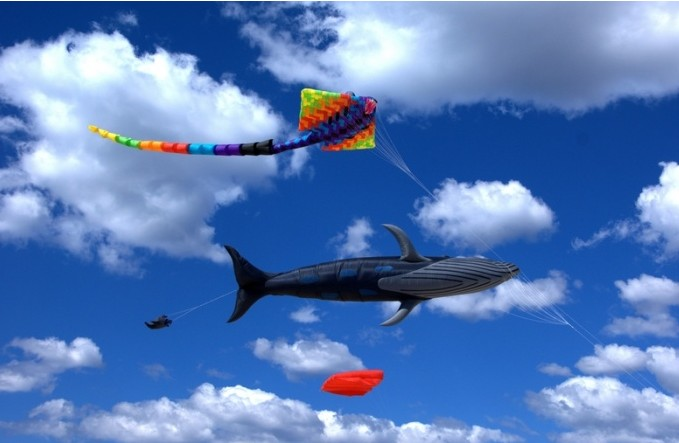kite: (146, 221, 519, 334), (87, 88, 382, 164), (319, 366, 386, 401)
